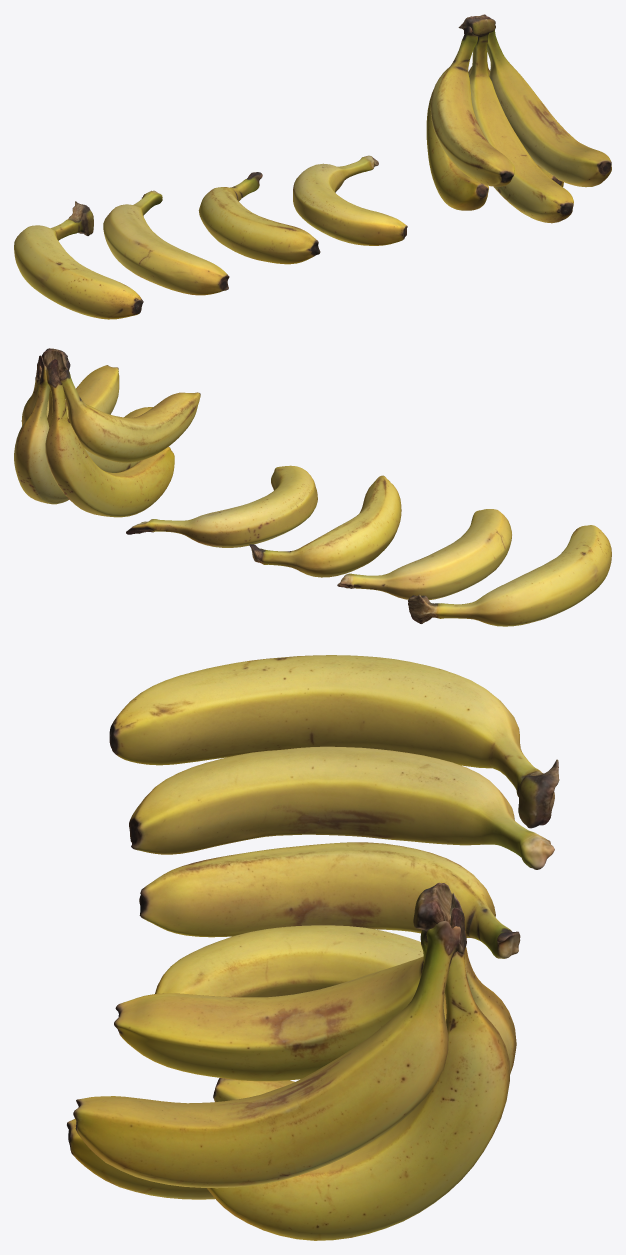
Rendered from bananas.obj.
3 renders of one model, top to bottom at view 1: azimuth 30°, elevation 25°; view 2: azimuth 150°, elevation 25°; view 3: azimuth 270°, elevation 25°, orthographic. The views are drawn at different scales.
Visible parts, largest first — view 1: mesh.012, mesh.010, mesh.007, mesh.009, mesh.011; view 2: mesh.012, mesh.010, mesh.007, mesh.009, mesh.011; view 3: mesh.012, mesh.010, mesh.007, mesh.011, mesh.009.
Boxes of the visible parts, left/top/right/bottom form: mesh.012: left=426, top=14, right=611, bottom=223; mesh.010: left=14, top=201, right=143, bottom=319; mesh.007: left=103, top=190, right=229, bottom=295; mesh.009: left=293, top=155, right=407, bottom=245; mesh.011: left=198, top=172, right=320, bottom=264; mesh.012: left=14, top=348, right=200, bottom=517; mesh.010: left=408, top=525, right=611, bottom=626; mesh.007: left=337, top=509, right=511, bottom=600; mesh.009: left=126, top=465, right=317, bottom=547; mesh.011: left=249, top=475, right=401, bottom=577; mesh.012: left=67, top=882, right=516, bottom=1240; mesh.010: left=109, top=655, right=559, bottom=828; mesh.007: left=129, top=746, right=554, bottom=869; mesh.011: left=139, top=842, right=520, bottom=958; mesh.009: left=155, top=925, right=423, bottom=997.
Bounding box in the file's own units: 0.6 × 0.1788 × 0.2441.
1 material, 1 textured.
